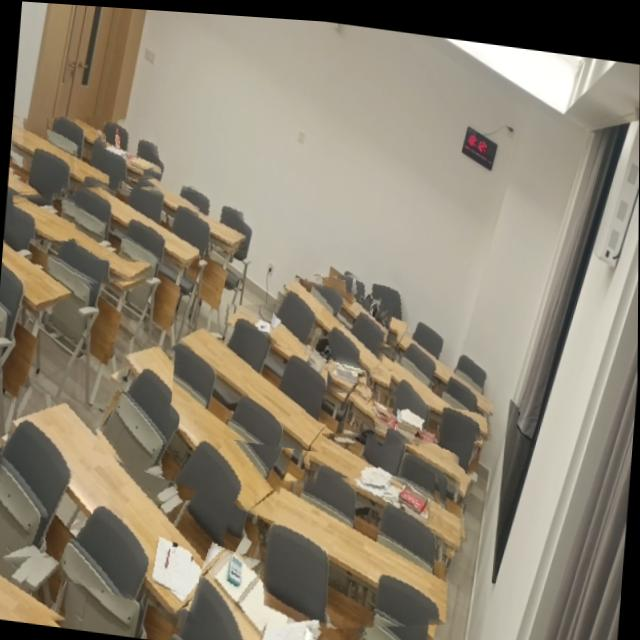Non-empty: (13, 398, 216, 609), (310, 428, 462, 546), (304, 433, 464, 536), (348, 372, 472, 497), (223, 301, 366, 387), (200, 549, 314, 640), (304, 273, 408, 339), (57, 123, 159, 178)
empty: (258, 477, 450, 617), (124, 344, 279, 509), (178, 319, 324, 446), (13, 194, 151, 279), (278, 275, 381, 367), (75, 185, 199, 261), (370, 364, 489, 432), (397, 326, 492, 407), (11, 118, 108, 186), (143, 184, 245, 247), (3, 236, 75, 307), (0, 574, 65, 621)
